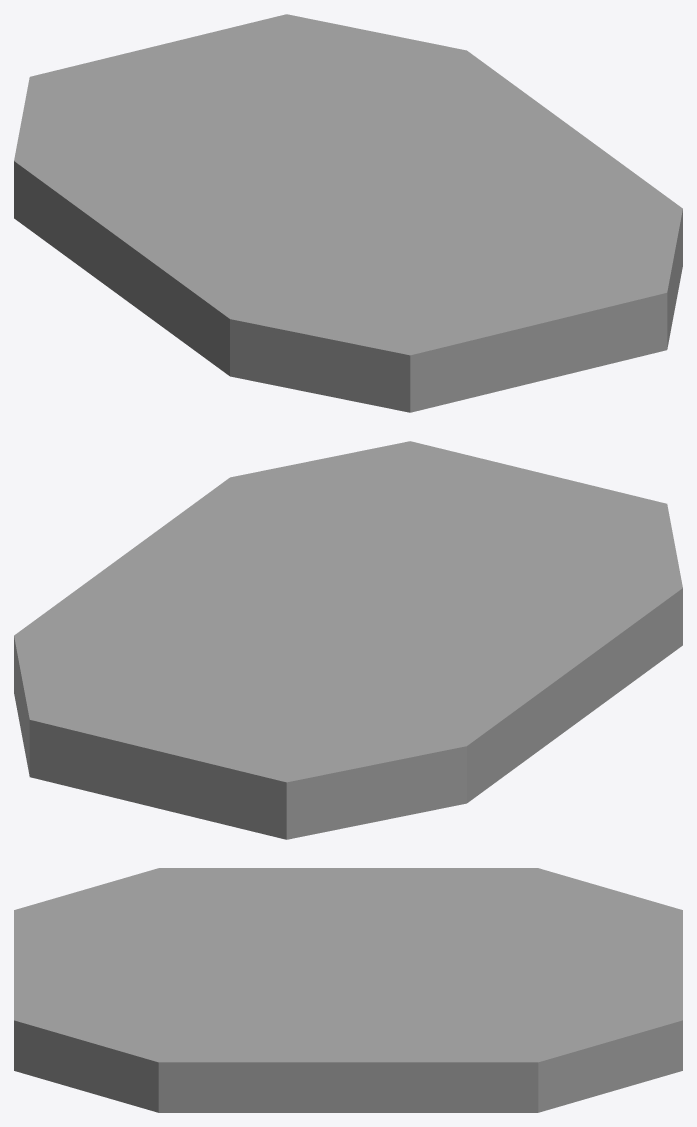
File: Path1.fbx
The picture shows the model from 3 angles, top to bottom: view 1: azimuth 30°, elevation 25°; view 2: azimuth 150°, elevation 25°; view 3: azimuth 270°, elevation 25°; orthographic projection. The views are drawn at different scales.
Parts seen in each view (by area): view 1: Cube.026; view 2: Cube.026; view 3: Cube.026.
Boxes of the visible parts, <box> form: Cube.026: <box>14,14,682,412</box>; Cube.026: <box>14,441,682,839</box>; Cube.026: <box>14,868,682,1112</box>.
Size of the model in its own units: 151 by 18.31 by 220.
1 material, 1 textured.
